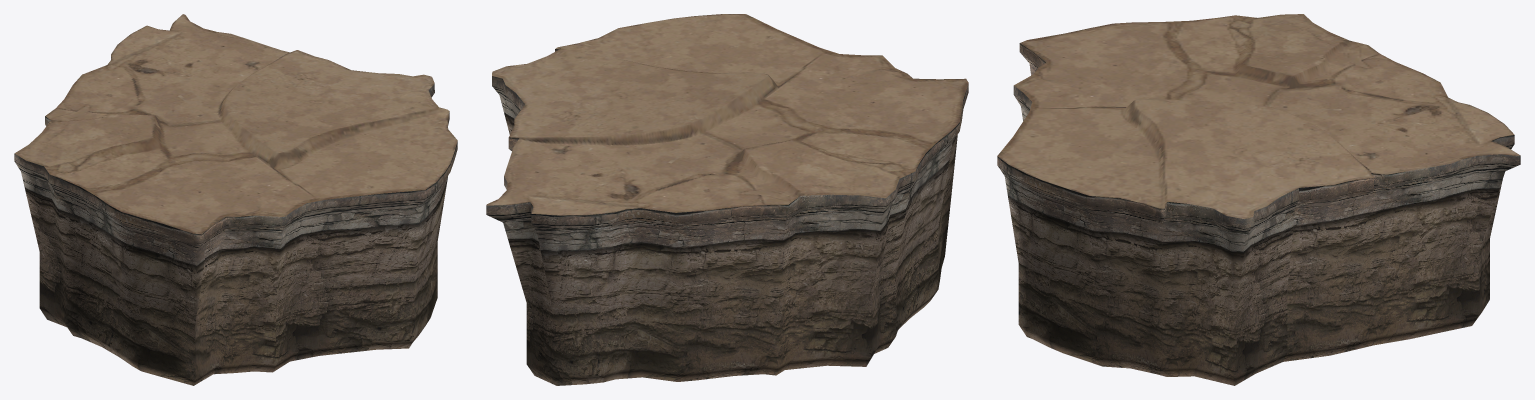
The model's file is caves_saltmine_ground_edge_03.dae.
3 renders of one model, left to right at view 1: azimuth 30°, elevation 25°; view 2: azimuth 150°, elevation 25°; view 3: azimuth 270°, elevation 25°, orthographic. The views are drawn at different scales.
Visible parts, largest first — view 1: Mesh__2_, 03; view 2: Mesh__2_, 03; view 3: Mesh__2_, 03.
Part boxes in pixels (left/top/right/bottom): Mesh__2_: left=14, top=57, right=457, bottom=385; 03: left=14, top=14, right=457, bottom=234; Mesh__2_: left=486, top=48, right=968, bottom=385; 03: left=486, top=14, right=968, bottom=215; Mesh__2_: left=997, top=43, right=1520, bottom=385; 03: left=997, top=14, right=1520, bottom=219.
Bounding box in the file's own units: 1.91 × 0.8354 × 2.04.
